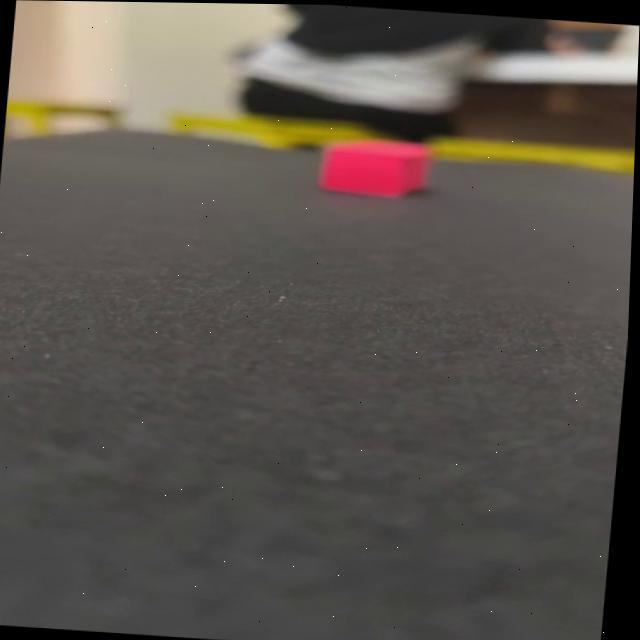red block: (317, 134, 435, 200)
